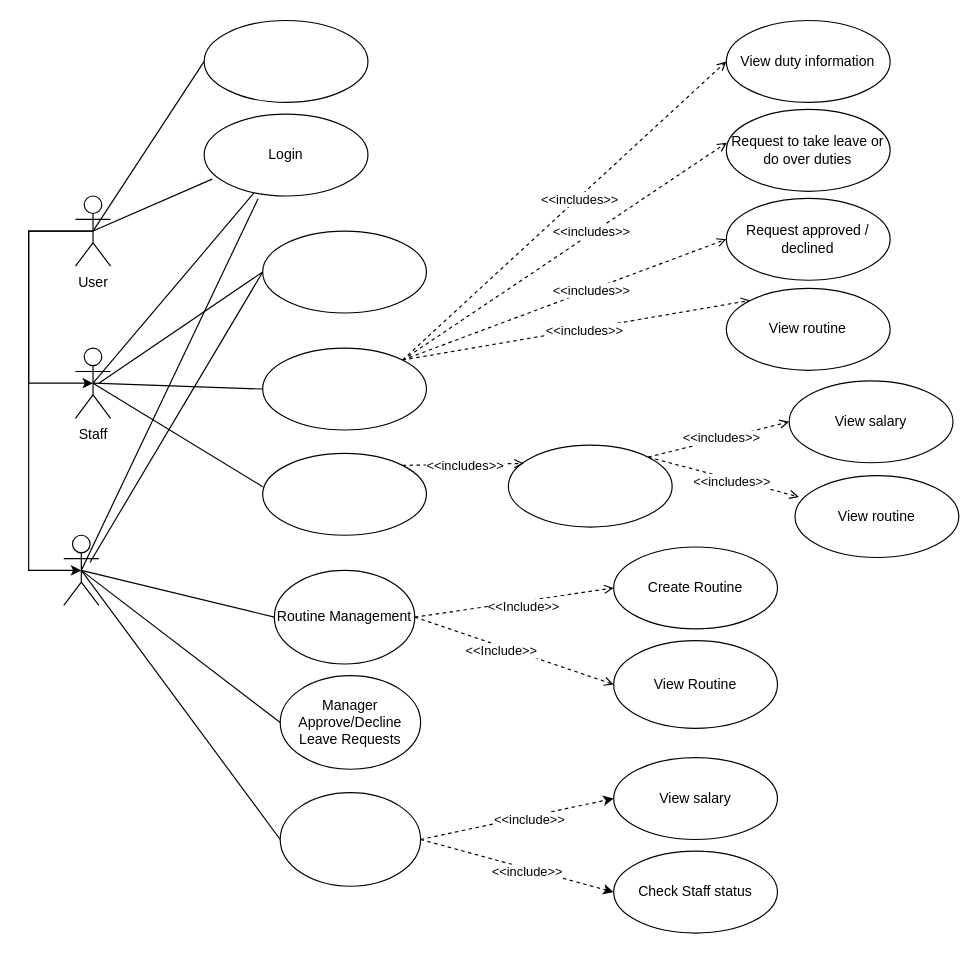
The diagram is 979 pixels wide and 954 high, and some of its shapes have lost their labels. The shapes that lost their labels are listed below. From the top down, each one's centre as x and y in pixels, then its label:
At point 285,60: "Reset Password".
At point 343,271: "Log out".
At point 343,388: "Duty Management".
At point 343,493: "Leaves Management".
At point 589,485: "Check leaves taken / leaves remaining".
At point 81,569: "Admin".
At point 350,839: "Monitoring".
